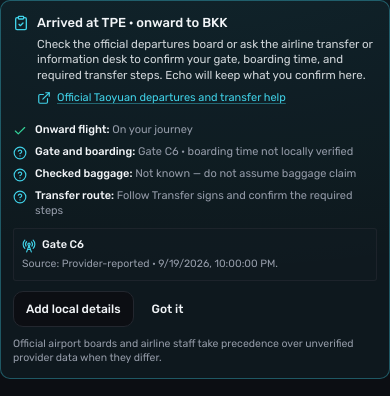
Scenario: local transfer verification › re-surfaces acknowledged guidance when the provider gate changes
Later steps or results of the test are not shown.
Click the button "Got it" at x=167, y=309, box [140,291,195,327]
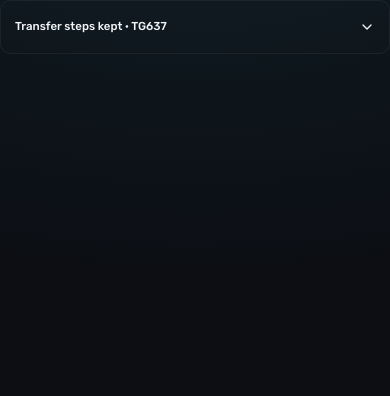
expect the button "Transfer steps kept · TG637" is shown: met, box [11,11,379,43]
